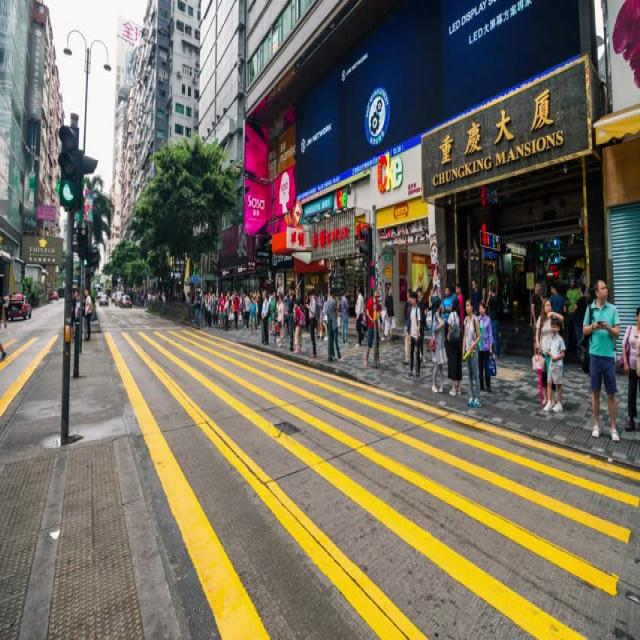body: (0, 257, 367, 332), (574, 276, 622, 444), (529, 295, 565, 405), (541, 313, 566, 415), (462, 296, 484, 409), (621, 306, 640, 434), (476, 297, 498, 396), (359, 287, 382, 369), (446, 294, 464, 398), (403, 289, 422, 383), (428, 297, 446, 395), (570, 280, 588, 373), (326, 287, 344, 364), (484, 282, 500, 362), (530, 277, 546, 356), (401, 285, 414, 368), (415, 285, 428, 364), (304, 288, 318, 360), (372, 305, 396, 343), (383, 285, 397, 348), (353, 286, 366, 350), (440, 283, 454, 340), (259, 288, 272, 348), (548, 277, 567, 315), (339, 288, 351, 345), (292, 299, 304, 356), (428, 237, 440, 291), (565, 274, 581, 314), (454, 281, 464, 343), (68, 287, 78, 344), (469, 276, 483, 316), (314, 286, 324, 342), (84, 286, 94, 342), (73, 286, 82, 342), (277, 294, 285, 349), (634, 333, 640, 406), (0, 332, 12, 368), (430, 285, 441, 324), (247, 295, 257, 337), (321, 293, 329, 343), (232, 292, 241, 332), (218, 290, 227, 330), (210, 292, 220, 328), (193, 288, 201, 328), (222, 292, 229, 331), (203, 292, 210, 329), (447, 282, 457, 302), (586, 286, 596, 302)
